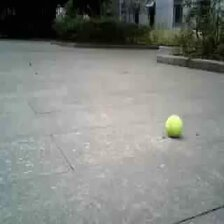tennis: (166, 116, 182, 137)
